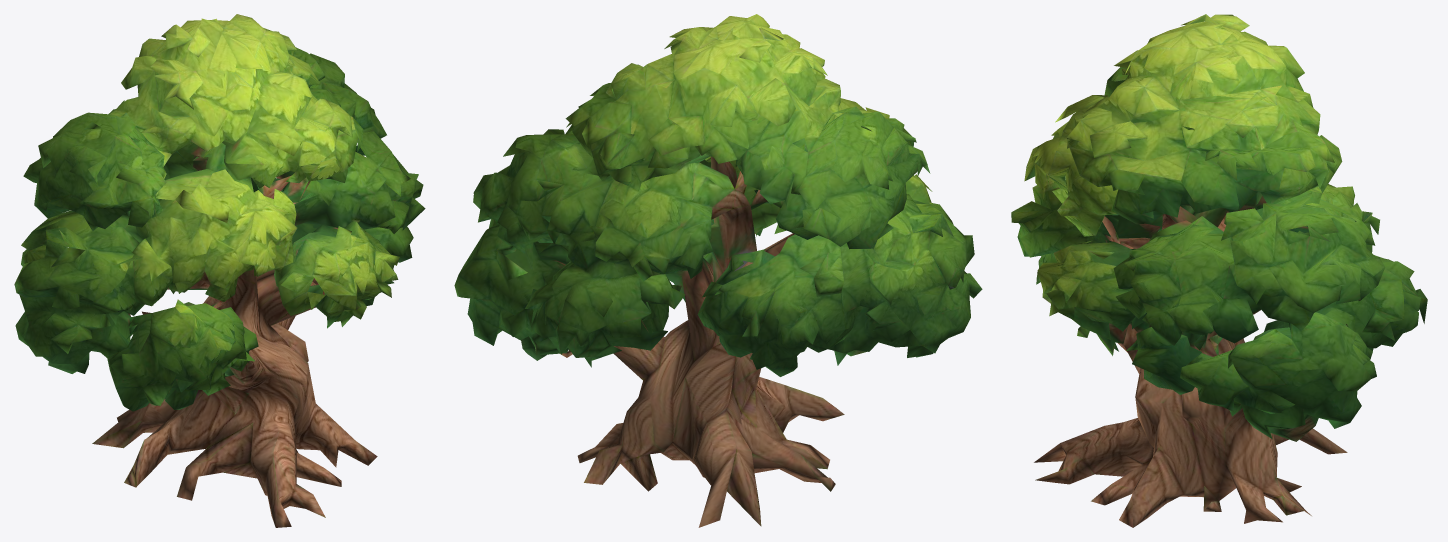
The model's file is tree_oak.glb.
3 views of the same model, side by side, from view 1: azimuth 30°, elevation 25°; view 2: azimuth 150°, elevation 25°; view 3: azimuth 270°, elevation 25° (orthographic).
Parts seen in each view (by area): view 1: plant; view 2: plant; view 3: plant.
Boxes of the visible parts, x1,y1,x2,y2 form: plant: [14, 14, 425, 527]; plant: [454, 14, 982, 527]; plant: [1011, 14, 1427, 527].
Size of the model in its own units: 5.04 by 5 by 4.29.
Materials: 1 (1 with a texture image).
